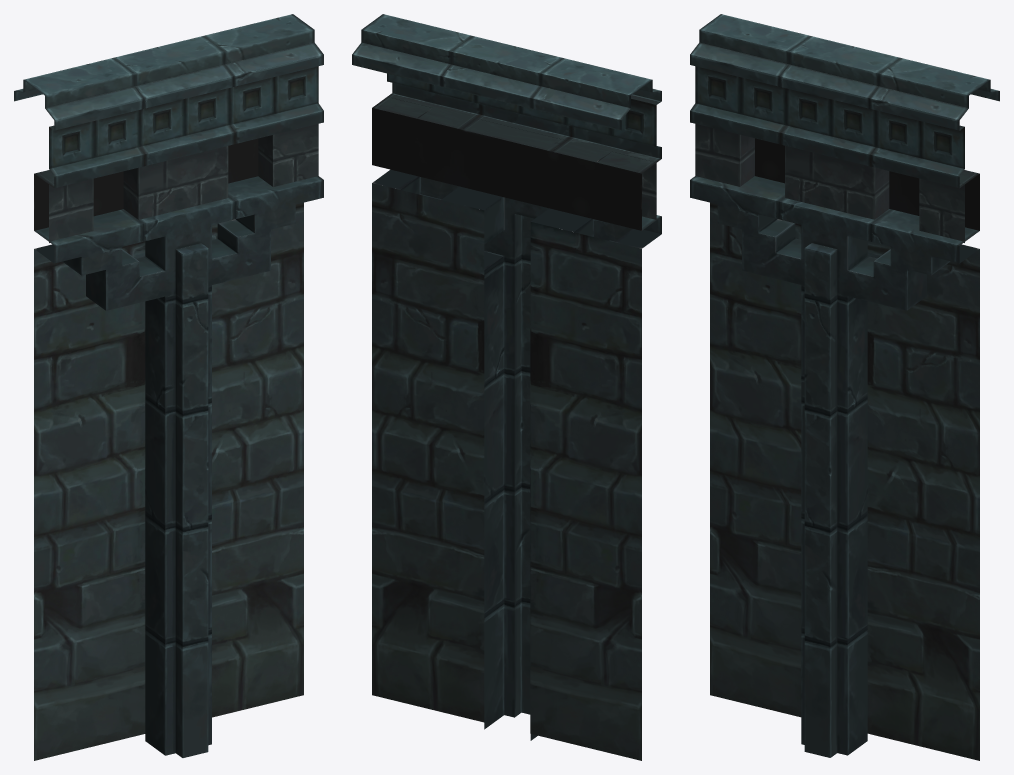
File: Stage_DiXiaCheng_DiMianBaoBian010.FBX
3 renders of one model, left to right at view 1: azimuth 30°, elevation 25°; view 2: azimuth 150°, elevation 25°; view 3: azimuth 330°, elevation 25°, orthographic.
Visible parts, largest first — view 1: Stage_DiXiaCheng_DiMianBaoBian010; view 2: Stage_DiXiaCheng_DiMianBaoBian010; view 3: Stage_DiXiaCheng_DiMianBaoBian010.
Boxes of the visible parts, x1,y1,x2,y2 form: Stage_DiXiaCheng_DiMianBaoBian010: (14,14,323,760); Stage_DiXiaCheng_DiMianBaoBian010: (352,14,661,760); Stage_DiXiaCheng_DiMianBaoBian010: (690,14,999,760).
Size of the model in its own units: 605 by 1458 by 183.
